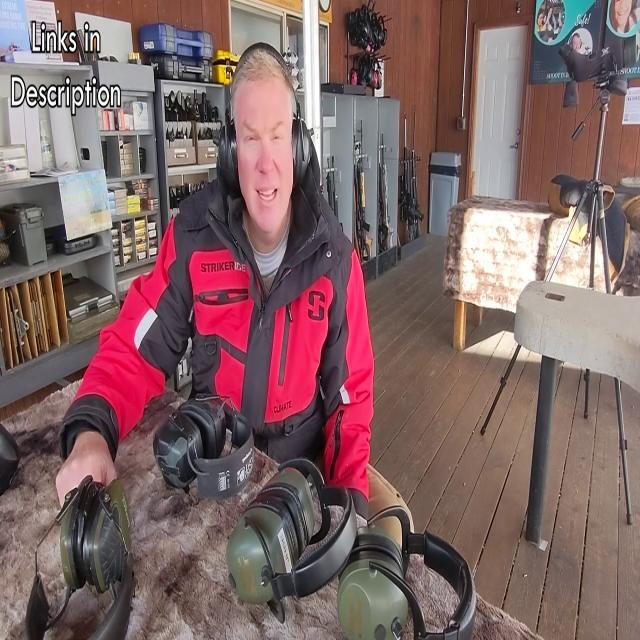earmuff: (211, 121, 242, 205), (290, 111, 318, 188)
